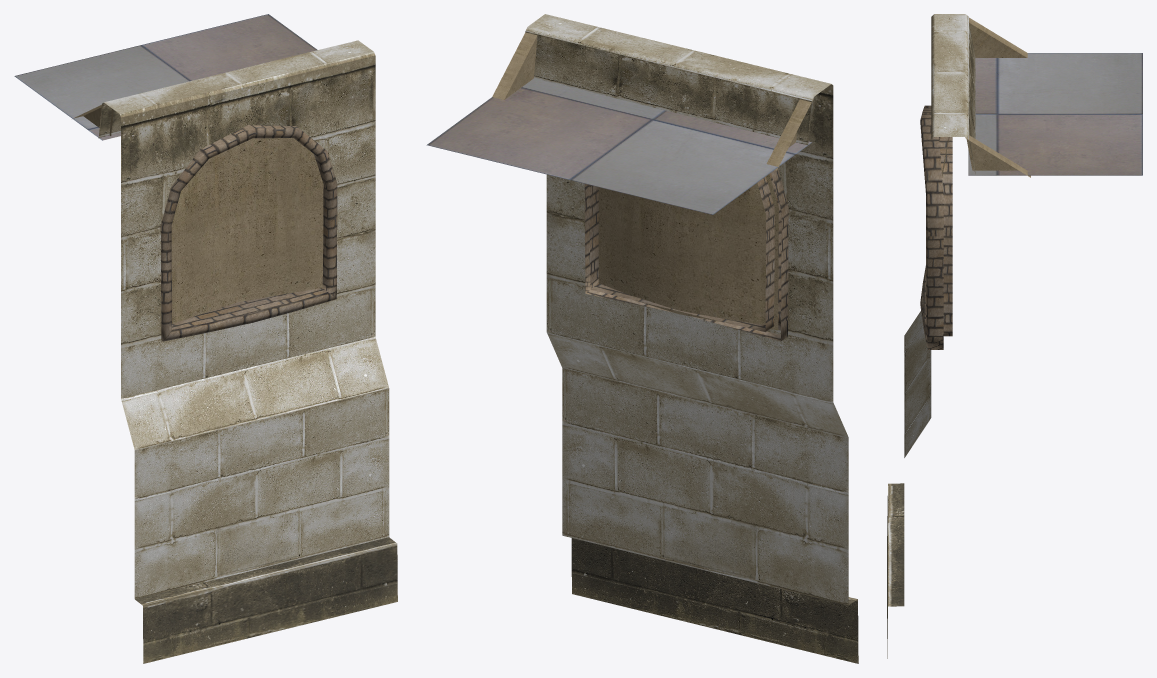
The model's file is castle-wall-w-window.fbx.
The picture shows the model from 3 angles, left to right: view 1: azimuth 30°, elevation 25°; view 2: azimuth 150°, elevation 25°; view 3: azimuth 270°, elevation 25°; orthographic projection. The views are drawn at different scales.
Parts seen in each view (by area): view 1: castle-wall-w-window; view 2: castle-wall-w-window; view 3: castle-wall-w-window.
Part boxes in pixels (x1,y1,x2,y2): castle-wall-w-window: (14, 14, 397, 663); castle-wall-w-window: (426, 14, 858, 663); castle-wall-w-window: (887, 14, 1142, 658).
Size of the model in its own units: 200 by 400 by 176.
